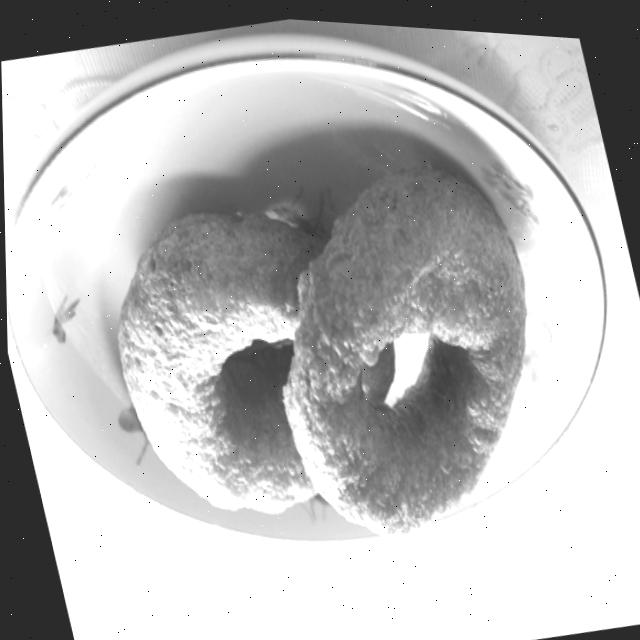炸货点心: (61, 44, 591, 640)
